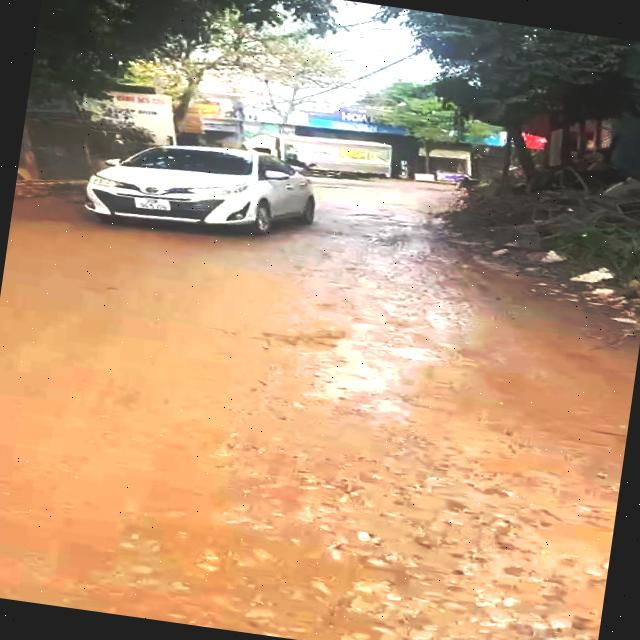pothole: (390, 458, 619, 640)
